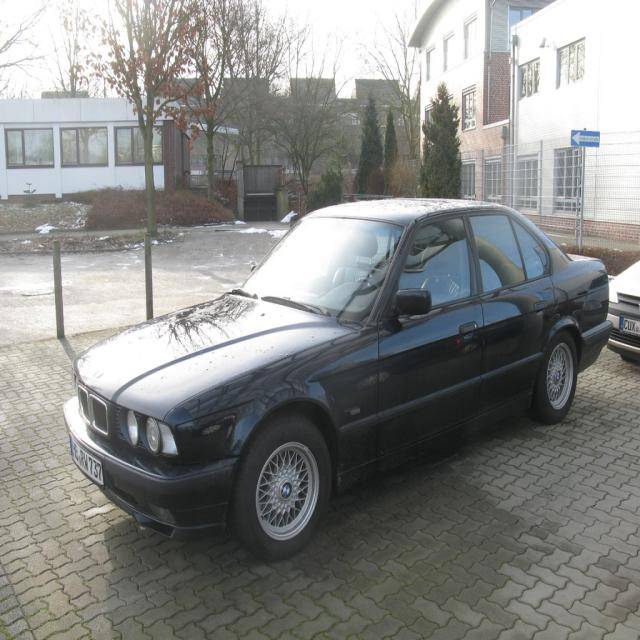car: (60, 191, 609, 562)
